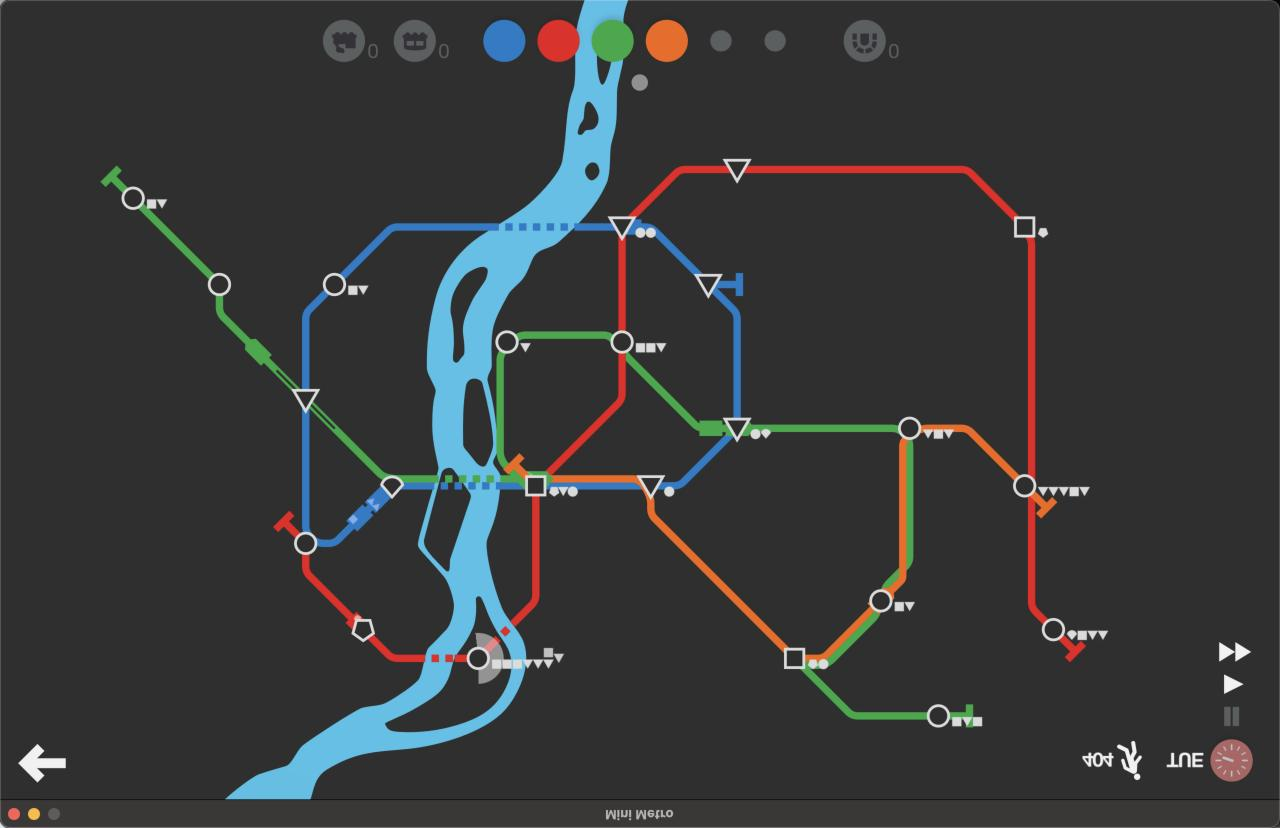BLUE LINE: (342, 222, 615, 275), (318, 486, 392, 547), (657, 436, 732, 492), (714, 289, 742, 418), (632, 223, 698, 274), (302, 292, 332, 387), (301, 409, 311, 533), (404, 483, 525, 490), (719, 275, 745, 297), (548, 485, 640, 490)
DARK GREEN LINE: (310, 402, 521, 483), (802, 611, 929, 720), (625, 356, 731, 433), (216, 296, 298, 391), (138, 203, 213, 277), (745, 423, 899, 434), (496, 352, 509, 469), (908, 443, 915, 568), (101, 165, 130, 192), (519, 332, 611, 340), (949, 704, 973, 730), (881, 569, 899, 589)
ORANGE LINE: (645, 497, 787, 653), (922, 425, 1019, 483), (806, 606, 873, 660), (892, 439, 907, 593), (547, 476, 638, 486), (503, 453, 529, 477), (1033, 493, 1058, 516)
RED LINE: (745, 166, 1017, 220), (548, 355, 626, 476), (486, 497, 540, 655), (628, 166, 729, 217), (302, 556, 354, 620), (1027, 503, 1049, 622), (368, 637, 467, 662), (1027, 239, 1036, 476), (617, 234, 626, 330), (272, 511, 300, 535), (1058, 639, 1086, 660), (617, 368, 622, 403)
